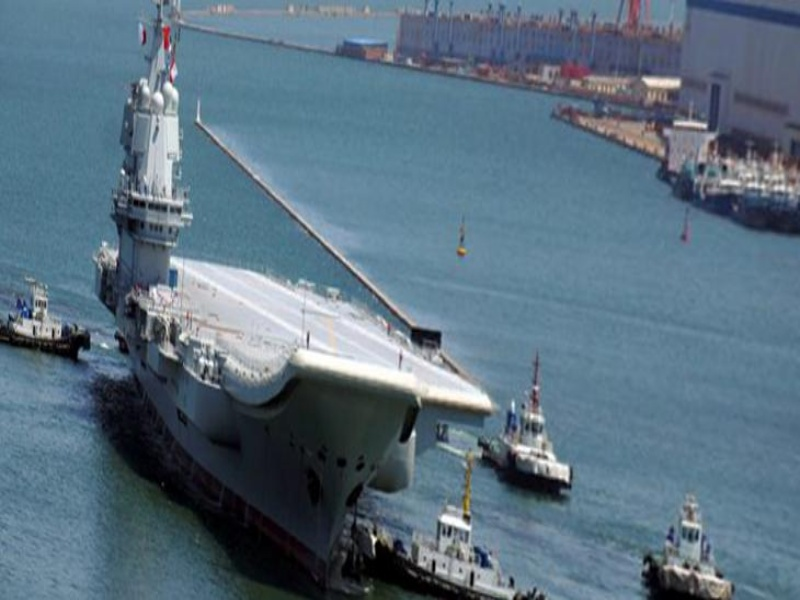boat: (382, 489, 536, 600), (636, 482, 733, 598), (499, 362, 576, 490), (8, 276, 86, 353)
carrier: (122, 49, 482, 588)
